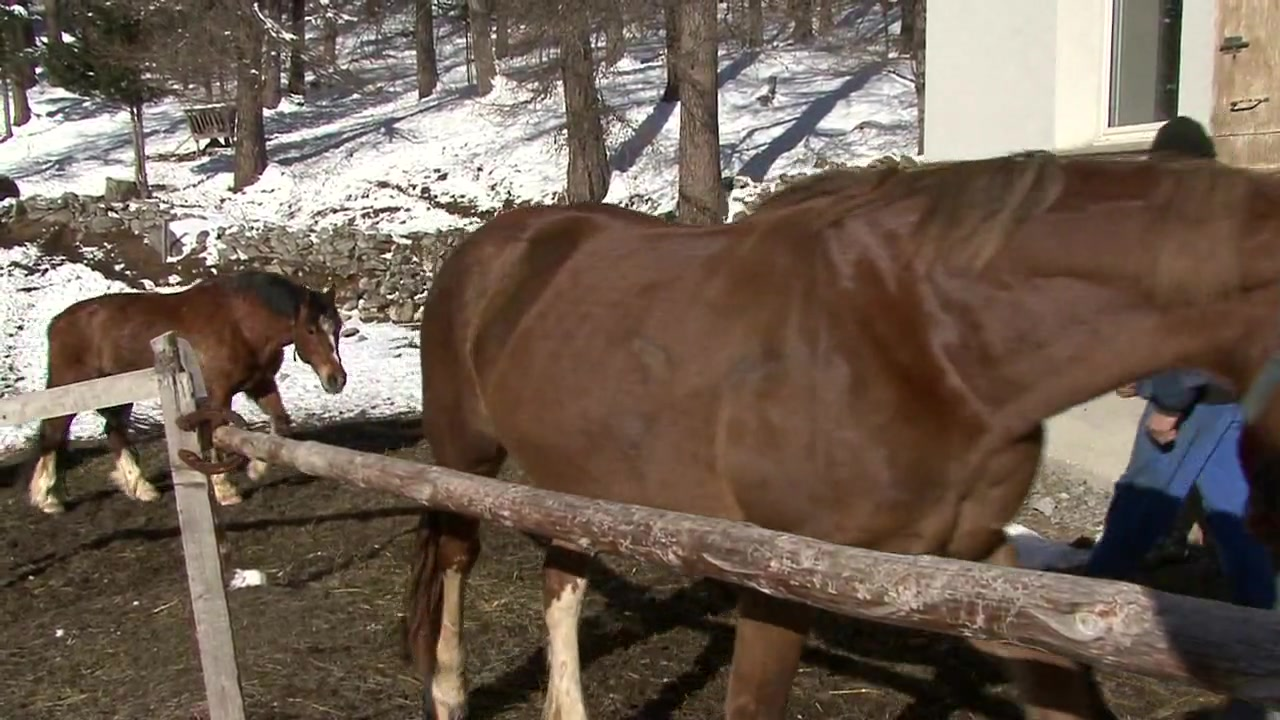horse: (29, 270, 351, 516)
